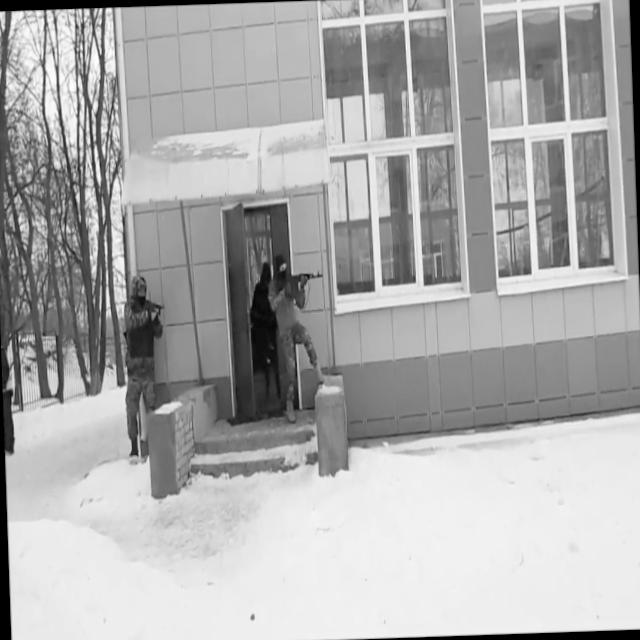gun: (128, 290, 166, 320), (280, 269, 324, 287)
person with a gun: (266, 253, 328, 424), (120, 272, 171, 464)
